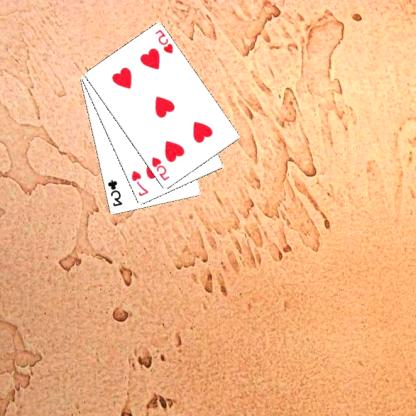3C: (107, 177, 125, 208)
5H: (154, 27, 176, 55), (151, 155, 173, 182)
7H: (131, 168, 151, 198)
